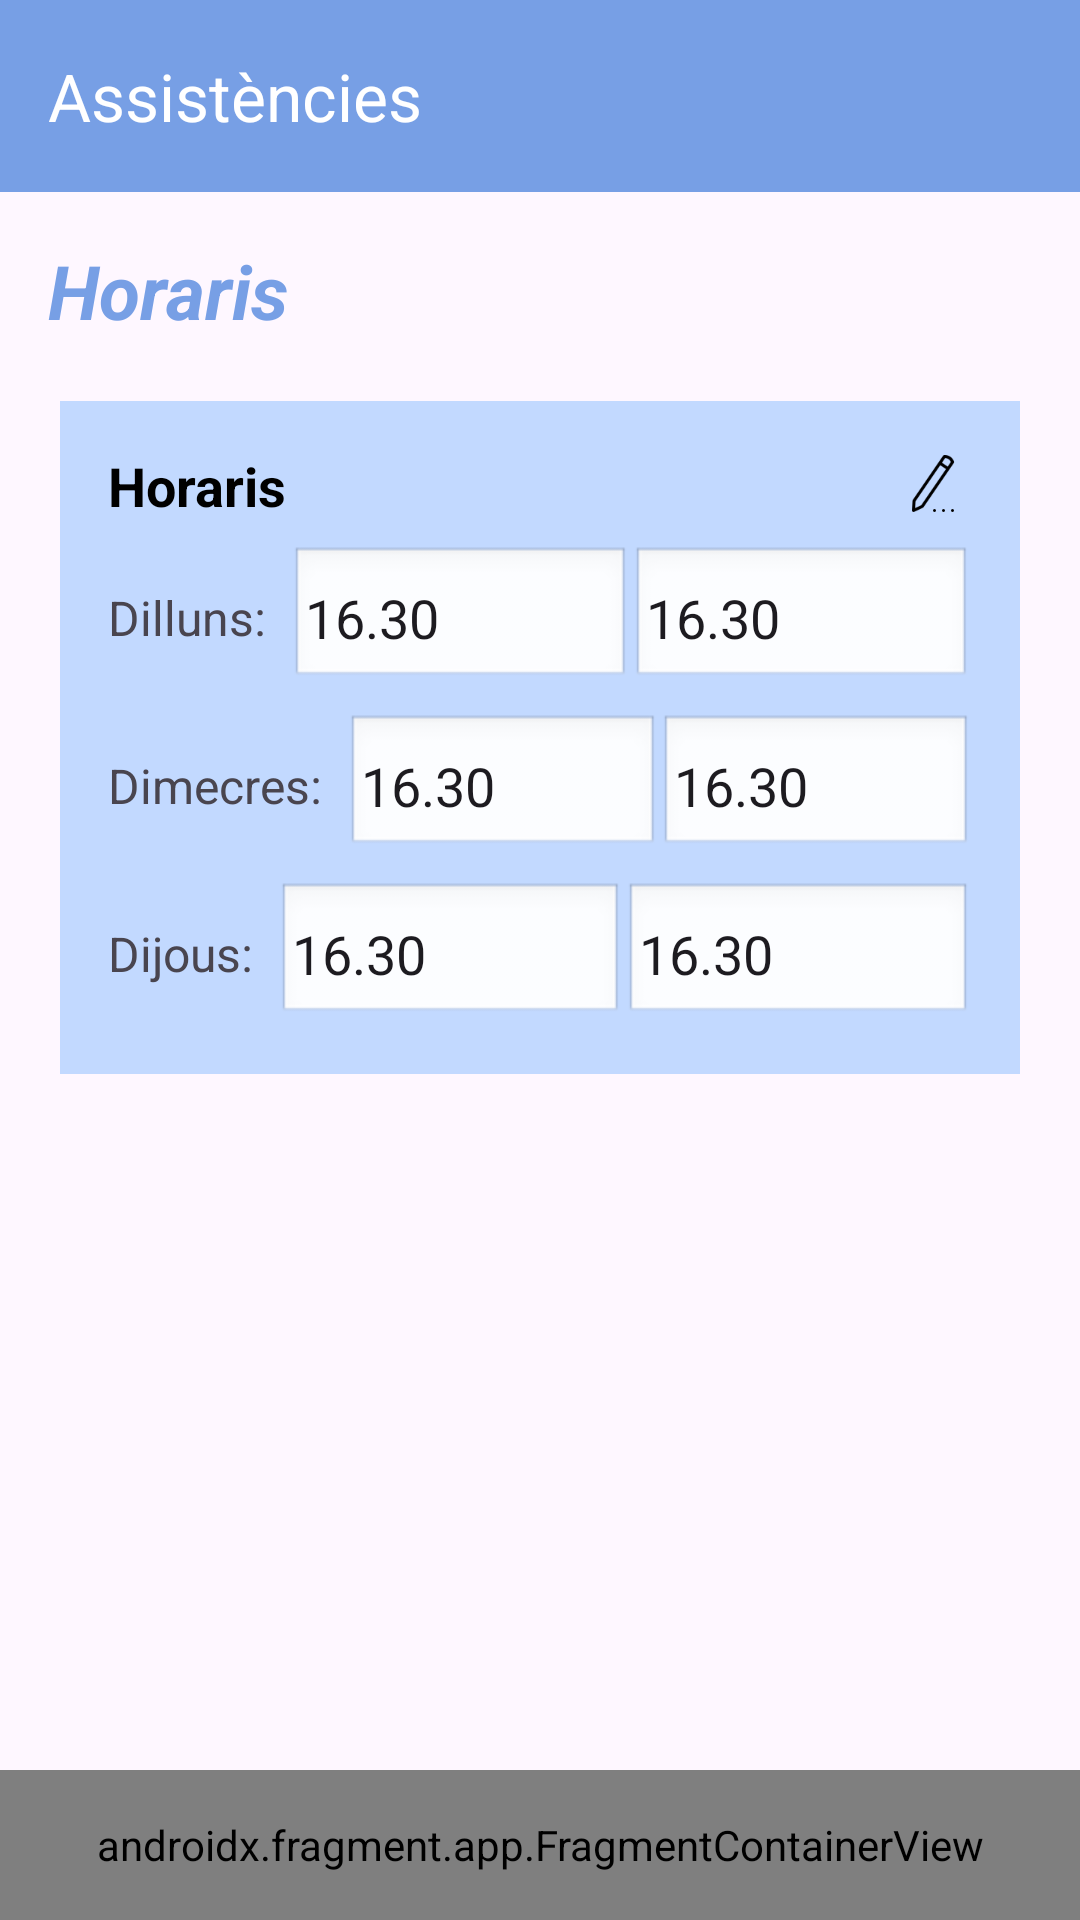

Icon click points for this 1080px×1920px phone screenshot, format (x=x, y=y):
editicon: (x=933, y=483)
